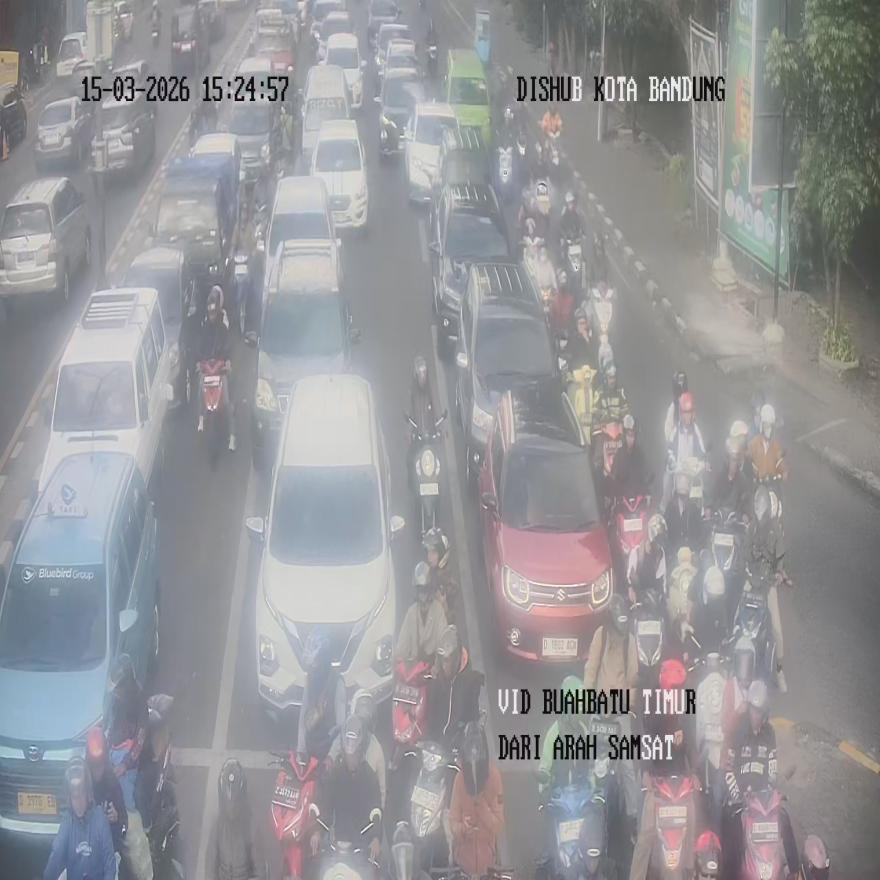Motor: (0, 456, 160, 842), (245, 374, 404, 728), (477, 384, 613, 662), (36, 287, 176, 504), (456, 262, 565, 479), (248, 238, 360, 448), (428, 182, 510, 348), (0, 176, 91, 304), (310, 118, 368, 233)
Truk: (534, 770, 610, 880), (408, 740, 459, 876), (268, 748, 320, 879), (724, 779, 791, 878), (732, 565, 782, 694), (698, 510, 746, 636), (406, 409, 447, 548), (644, 771, 696, 878), (312, 804, 382, 880), (608, 487, 650, 598), (390, 659, 431, 770), (197, 358, 234, 453), (151, 3, 161, 46)
